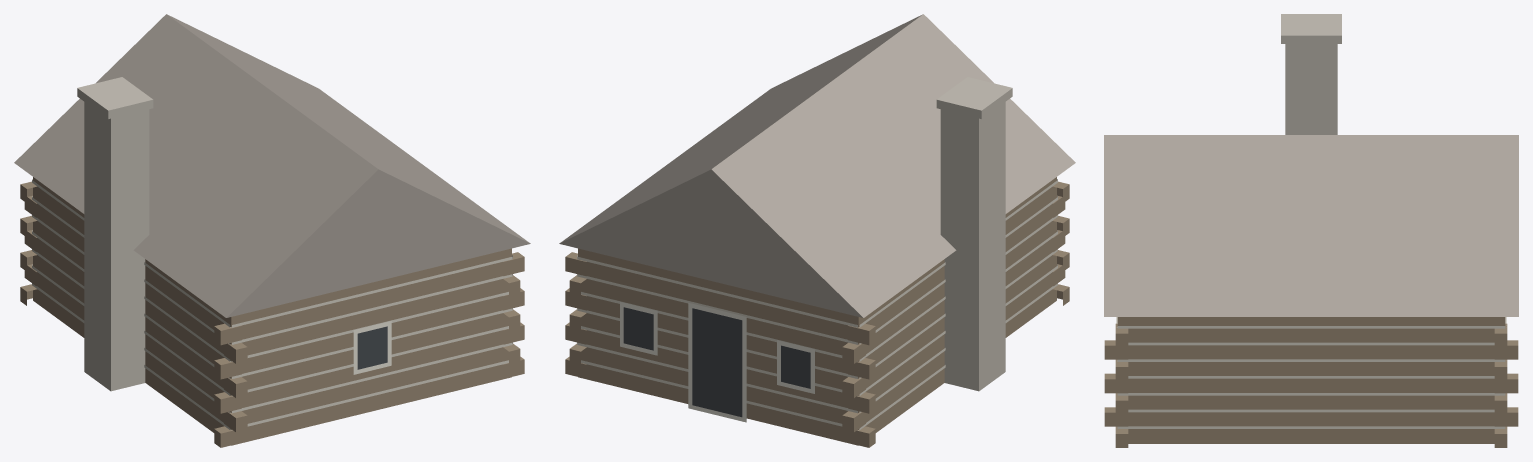
File: recon_1835_north_d1_023__inferred_1835.glb
The picture shows the model from 3 angles, left to right: view 1: azimuth 30°, elevation 25°; view 2: azimuth 150°, elevation 25°; view 3: azimuth 270°, elevation 25°; orthographic projection. The views are drawn at different scales.
Visible parts, largest first — view 1: recon_1835_north_d1_023__inferred_1835; view 2: recon_1835_north_d1_023__inferred_1835; view 3: recon_1835_north_d1_023__inferred_1835.
Part boxes in pixels (x1,y1,x2,y2): recon_1835_north_d1_023__inferred_1835: [14, 14, 530, 447]; recon_1835_north_d1_023__inferred_1835: [559, 14, 1075, 447]; recon_1835_north_d1_023__inferred_1835: [1104, 14, 1518, 447].
Size of the model in its own units: 6.91 by 5.7 by 7.65.
